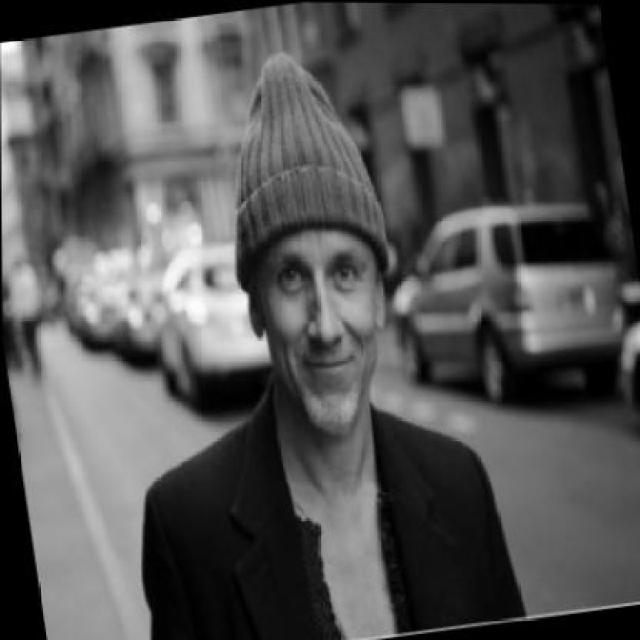hat: (201, 37, 393, 291)
